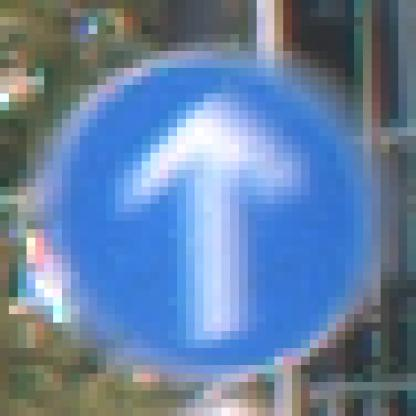AheadOnly: (54, 44, 364, 366)
